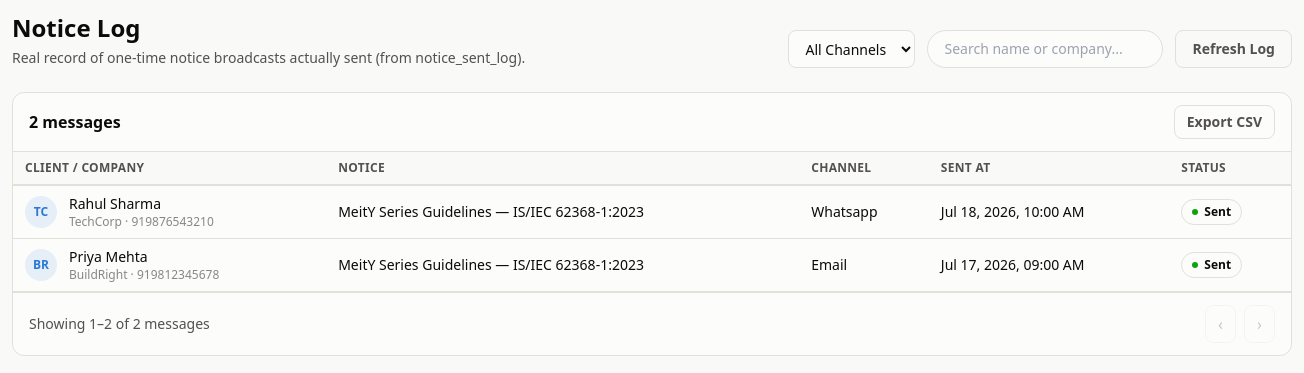
Test: NoticeLogView › filters entries by channel
Expected: the text "Rahul Sharma" is shown, [69,194,161,213]
Select "WhatsApp" in the dropdown named "Filter by channel" at (852, 49), box [788,30,916,68]
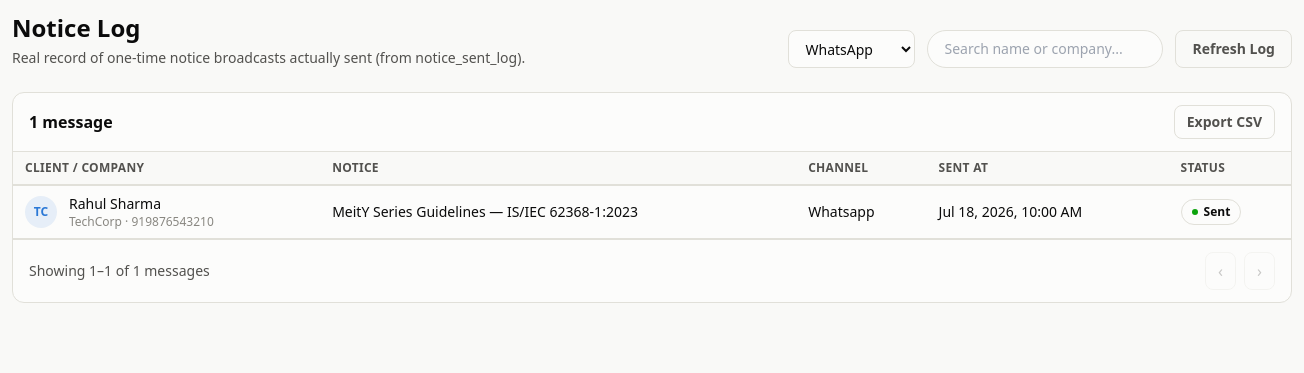
Expected: the text "Rahul Sharma" is shown, [69,194,161,213]
Now the text "Priya Mehta" is gone
Select "Email" in the dropdown named "Filter by channel" at (852, 49), box [788,30,916,68]
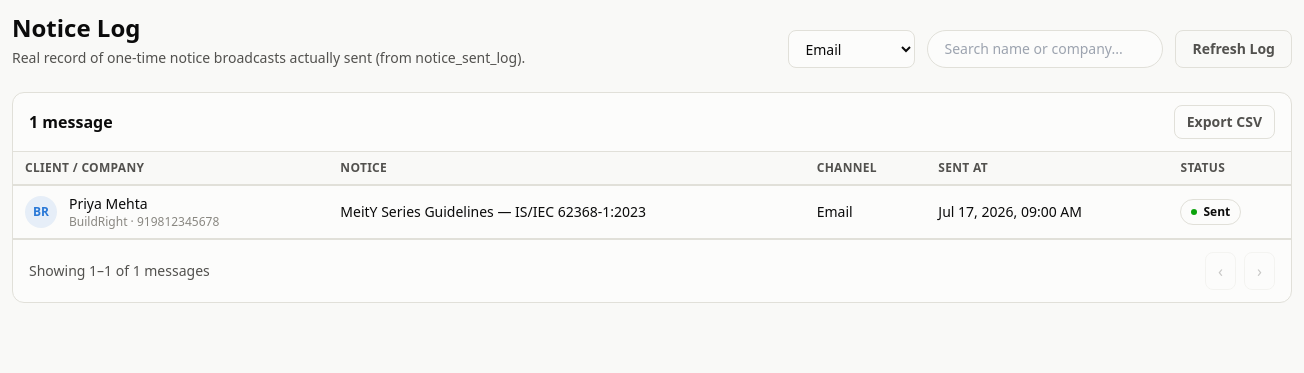
Now the text "Rahul Sharma" is gone
Now the text "Priya Mehta" is shown, box [69,194,148,213]
Select "All Channels" in the dropdown named "Filter by channel" at (852, 49), box [788,30,916,68]
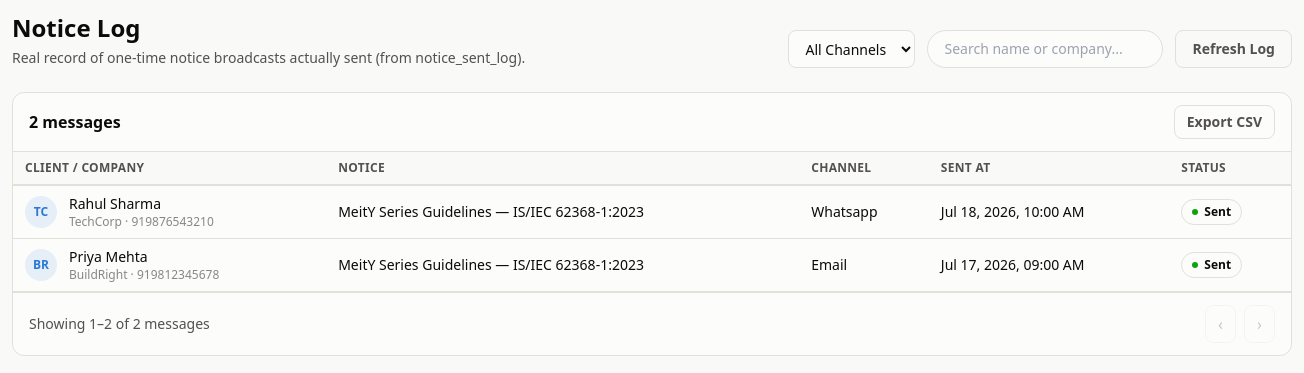
Now the text "Priya Mehta" is shown, box [69,247,148,266]
Now the text "Rahul Sharma" is shown, box [69,194,161,213]
